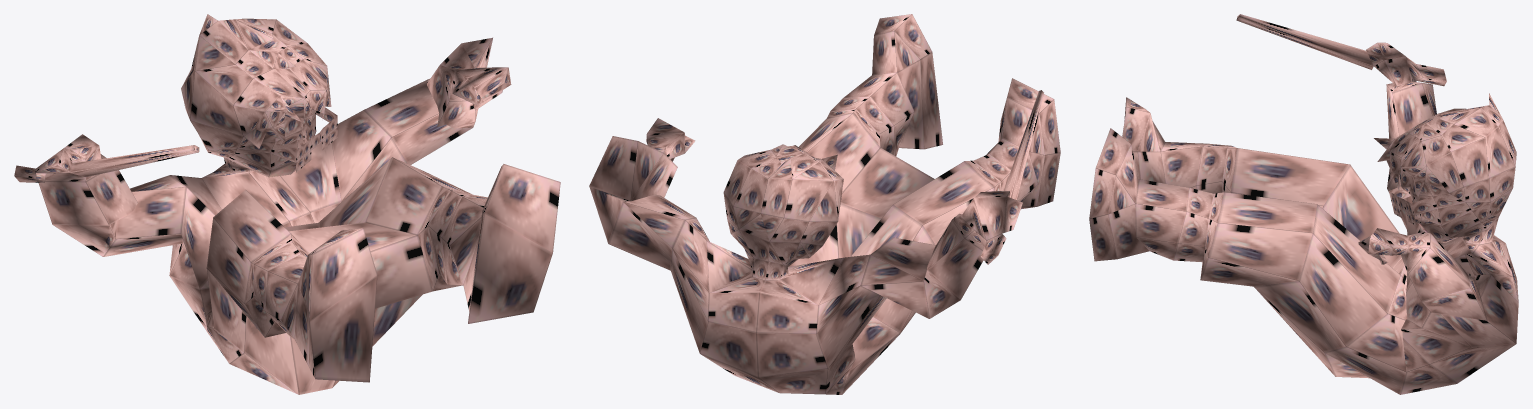
The picture shows the model from 3 angles, left to right: view 1: azimuth 30°, elevation 25°; view 2: azimuth 150°, elevation 25°; view 3: azimuth 270°, elevation 25°; orthographic projection. The views are drawn at different scales.
Parts seen in each view (by area): view 1: T1L2M006_4; view 2: T1L2M006_4; view 3: T1L2M006_4.
Part boxes in pixels (box(x1,y1,x2,y2)): T1L2M006_4: box(14, 14, 560, 394); T1L2M006_4: box(589, 14, 1060, 394); T1L2M006_4: box(1089, 14, 1518, 394).
Bounding box in the file's own units: 0.9716 × 0.6532 × 0.8862.
